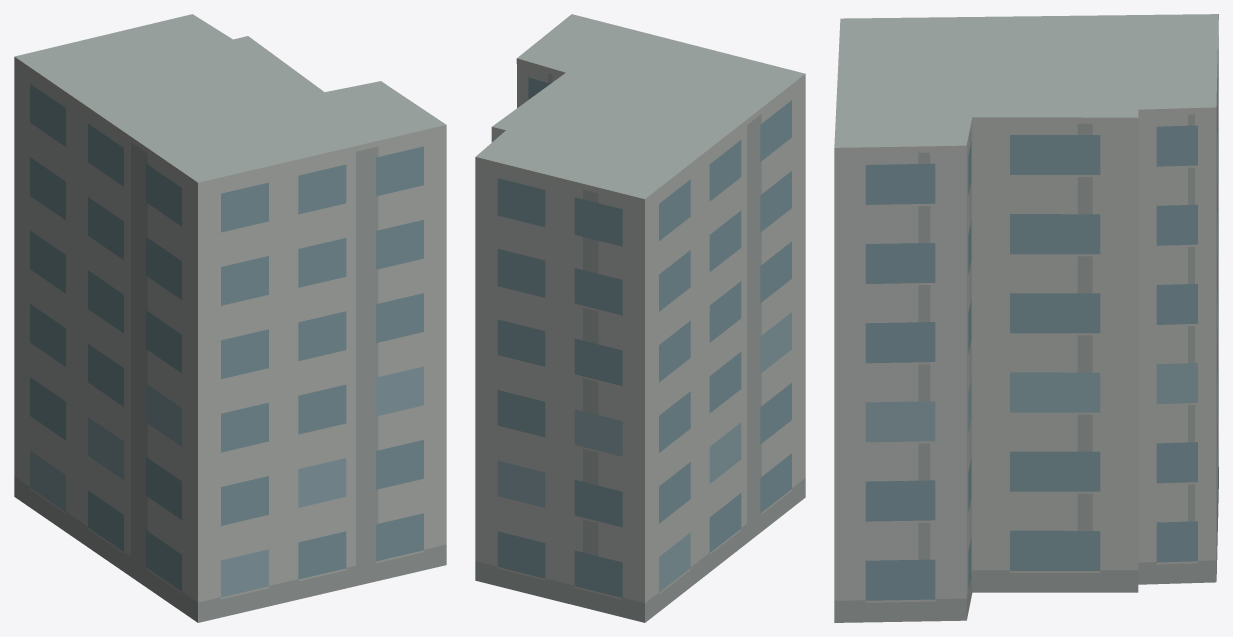
File: survey-upis-32873210.glb
3 renders of one model, left to right at view 1: azimuth 30°, elevation 25°; view 2: azimuth 150°, elevation 25°; view 3: azimuth 270°, elevation 25°, orthographic. The views are drawn at different scales.
Parts seen in each view (by area): view 1: survey-upis-32873210.tmp; view 2: survey-upis-32873210.tmp; view 3: survey-upis-32873210.tmp.
Boxes of the visible parts, x1=… form: survey-upis-32873210.tmp: x1=14, y1=14, x2=446, y2=622; survey-upis-32873210.tmp: x1=475, y1=14, x2=805, y2=622; survey-upis-32873210.tmp: x1=834, y1=14, x2=1218, y2=622.
Size of the model in its own units: 11.07 by 18.3 by 13.43.
